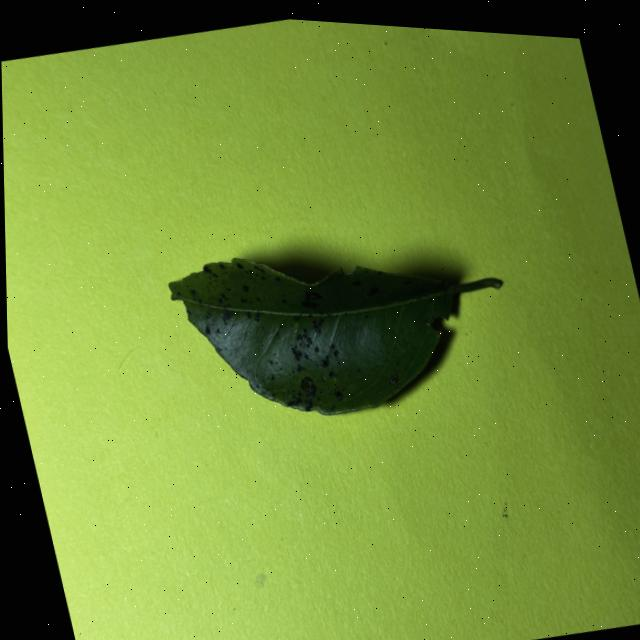sooty_mold: (168, 258, 500, 415)
